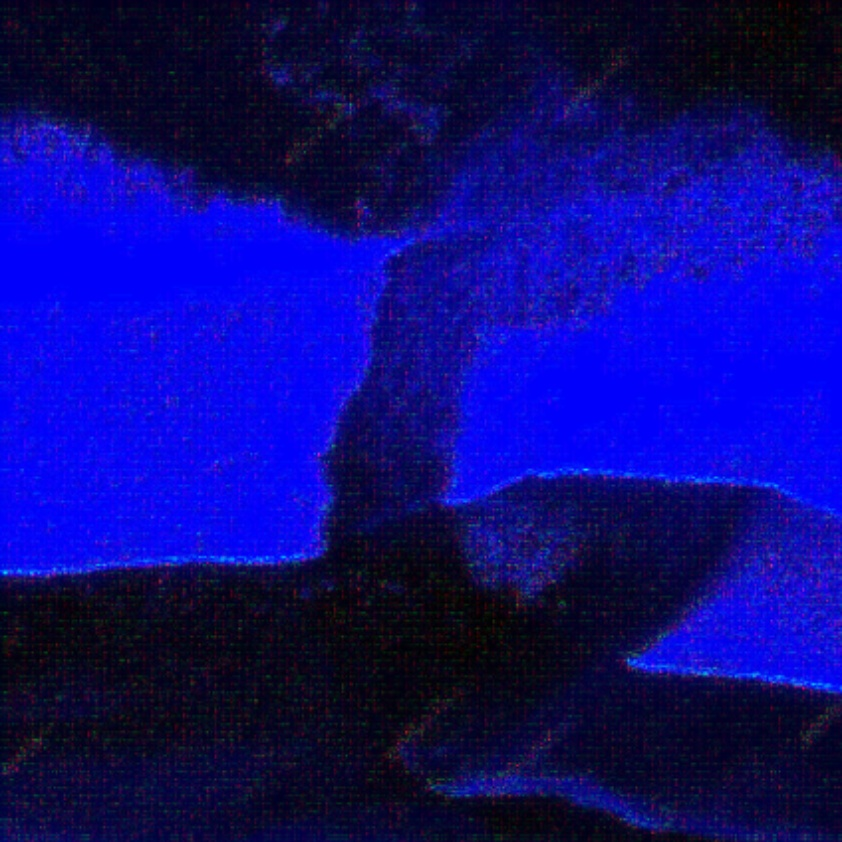rip_current: (262, 66, 677, 607)
